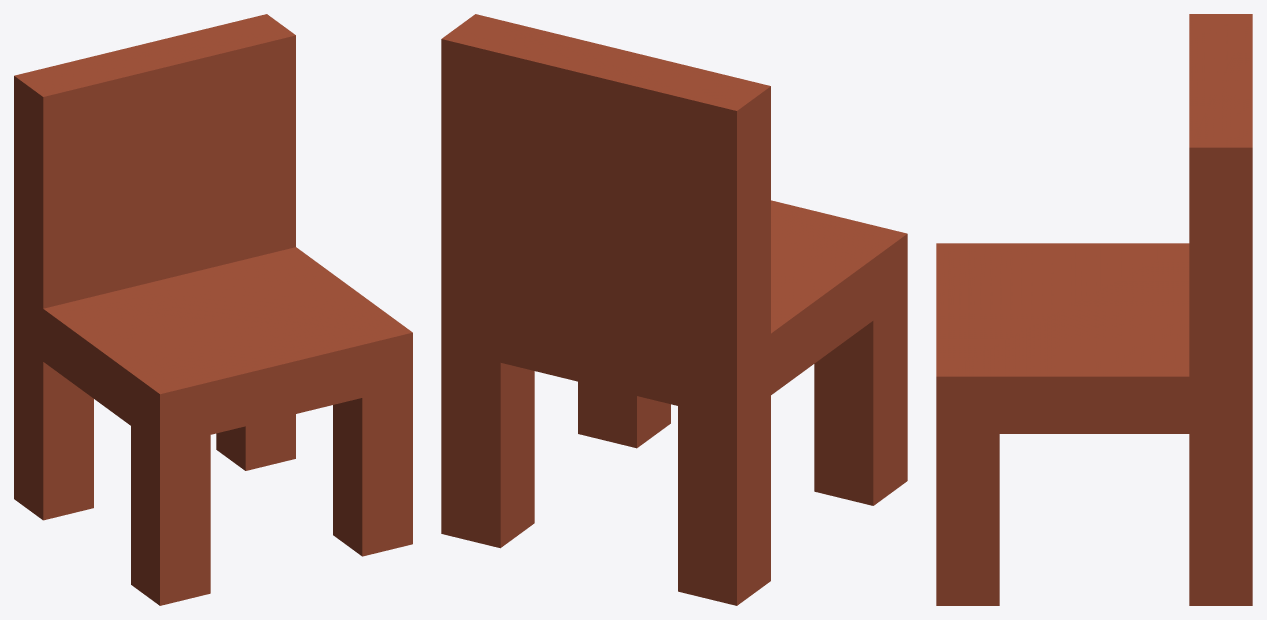
File: chair_a.obj
3 views of the same model, side by side, from view 1: azimuth 30°, elevation 25°; view 2: azimuth 150°, elevation 25°; view 3: azimuth 270°, elevation 25° (orthographic). The views are drawn at different scales.
Size of the model in its own units: 0.5 by 0.8 by 0.5.
1 material, 1 textured.
